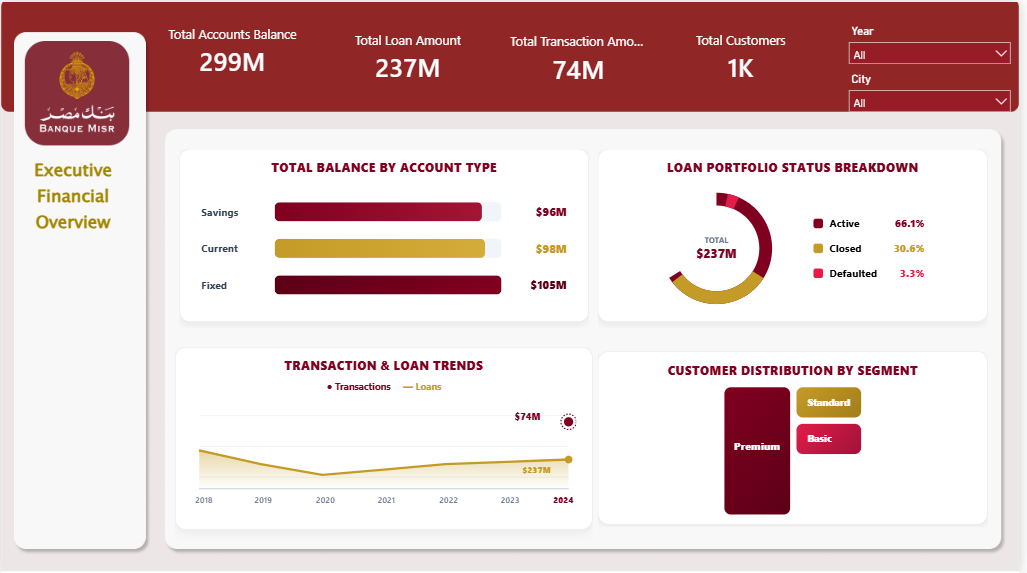

The page's visual inventory and layout, read from the dashboard file:
{"tool":"powerbi","page":{"name":"Executive Overview","canvas":[1280,720],"ordinal":1},"visuals":[{"type":"image","box":[12.1,48.3,169,131],"z":0},{"type":"textbox","box":[0,190.9,181.4,107.7],"z":1000},{"type":"cardVisual","fields":{"Data":["Dax.Total Accounts Balance"]},"box":[181,12.1,220.7,101.7],"z":2000},{"type":"cardVisual","fields":{"Data":["Dax.Total Loan Amount"]},"box":[401.7,12.1,220.7,117.2],"z":3000},{"type":"cardVisual","fields":{"Data":["Dax.Total Transaction Amount"]},"box":[611.1,12.5,231.3,117.2],"z":4000},{"type":"cardVisual","fields":{"Data":["Dax.Total Customers"]},"box":[843.1,12.1,174.1,117.2],"z":5000},{"type":"slicer","fields":{"Values":["Dim_Customers.City"]},"box":[1056.6,82.8,223.5,61],"z":6000},{"type":"slicer","fields":{"Values":["Dim_Date.Year"]},"box":[1056.6,21.9,223.5,61],"z":7000},{"type":"htmlContent443BE3AD55E043BF878BED274D3A6855","fields":{"content":["Dax.HTML_Trend_Chart"]},"box":[219.2,434.6,525.4,251.3],"z":8000},{"type":"htmlContent443BE3AD55E043BF878BED274D3A6855","fields":{"content":["Dax.HTML_Donut_Chart"]},"box":[744.6,179.5,500.8,236.2],"z":9000},{"type":"htmlContent443BE3AD55E043BF878BED274D3A6855","fields":{"content":["Dax.HTML_Bar_Chart"]},"box":[219.2,179.5,525.4,236.2],"z":10000},{"type":"htmlContent443BE3AD55E043BF878BED274D3A6855","fields":{"content":["Dax.HTML_Column_Chart"]},"box":[744.6,434.6,500.8,230.6],"z":11000}]}

Visuals, with their boxes in screenshot pixels (x1, y1, x2, y2), scaled from the page's 1280x720 canvas onto the 1027x573 screenshot:
image: <box>10,38,145,143</box>
textbox: <box>0,152,146,238</box>
cardVisual - Dax.Total Accounts Balance: <box>145,10,322,91</box>
cardVisual - Dax.Total Loan Amount: <box>322,10,499,103</box>
cardVisual - Dax.Total Transaction Amount: <box>490,10,676,103</box>
cardVisual - Dax.Total Customers: <box>676,10,816,103</box>
slicer - Dim_Customers.City: <box>848,66,1026,114</box>
slicer - Dim_Date.Year: <box>848,17,1026,66</box>
htmlContent443BE3AD55E043BF878BED274D3A6855 - Dax.HTML_Trend_Chart: <box>176,346,597,546</box>
htmlContent443BE3AD55E043BF878BED274D3A6855 - Dax.HTML_Donut_Chart: <box>597,143,999,331</box>
htmlContent443BE3AD55E043BF878BED274D3A6855 - Dax.HTML_Bar_Chart: <box>176,143,597,331</box>
htmlContent443BE3AD55E043BF878BED274D3A6855 - Dax.HTML_Column_Chart: <box>597,346,999,529</box>
